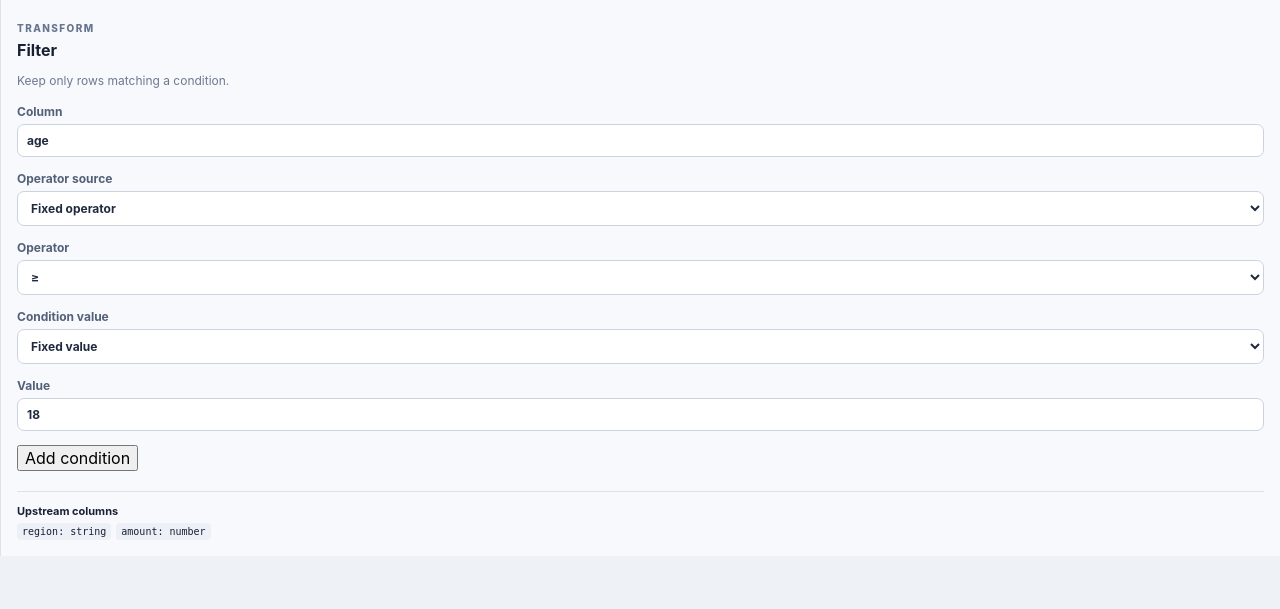
Scenario: NodeInspector: filter の複数条件 › エージェント入力を選んだときだけ、任意引数を省略すると条件がスキップされる旨を補足する
This screenshot has width=1280, height=609.
Select "Agent input" in the dropdown labelled "Condition value" at (640, 346), box left=17, top=329, right=1264, bottom=364
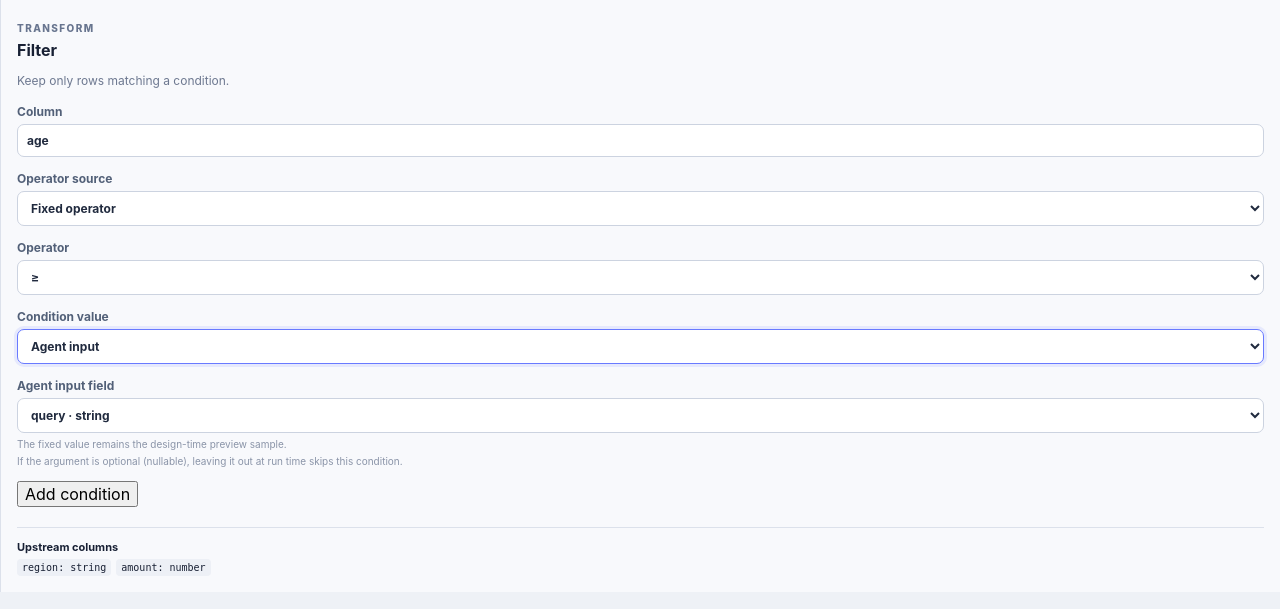
Expected: the text "If the argument is optional (nullable), leaving it out at run time skips this condition." is shown, left=17, top=455, right=403, bottom=467
